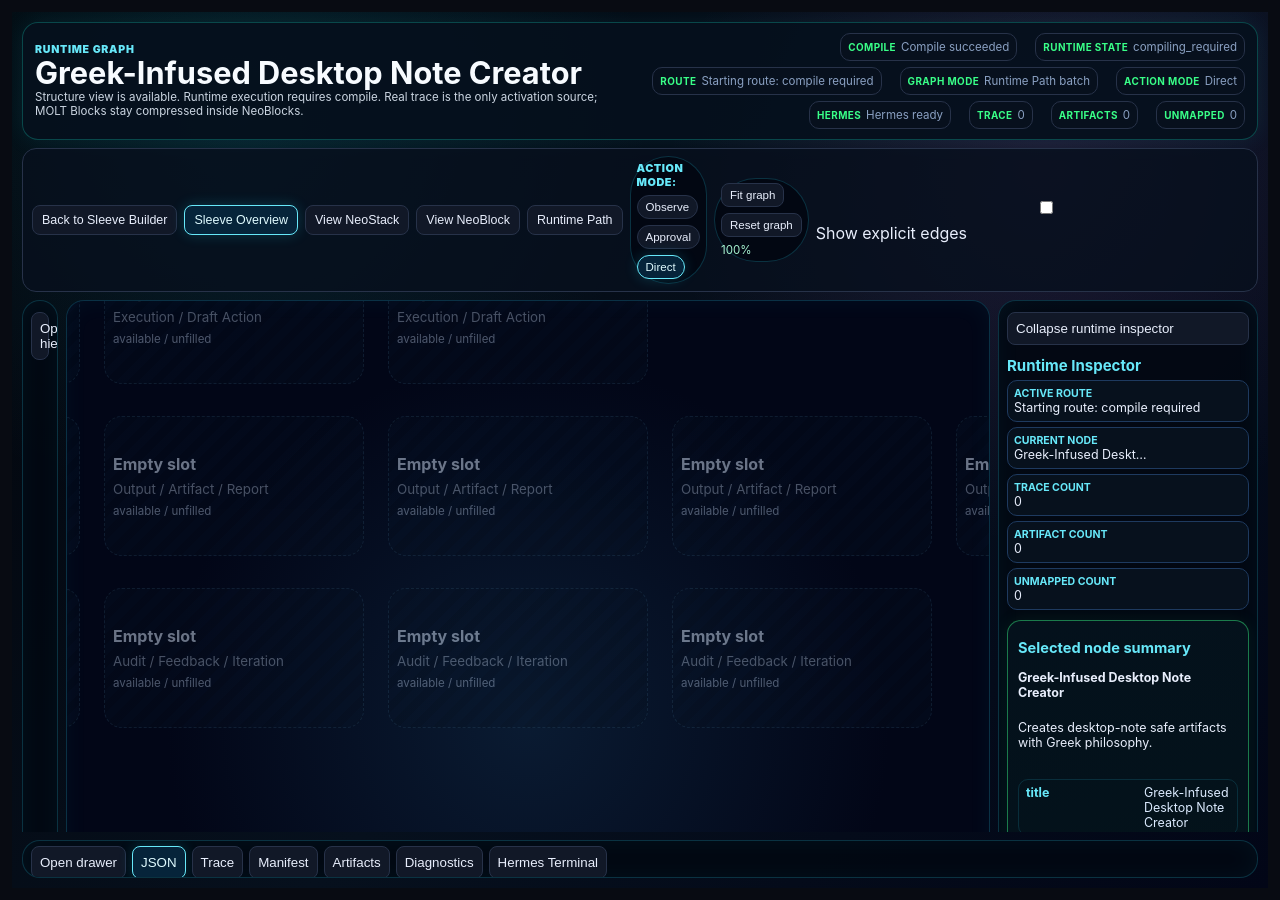
Scenario: RuntimeGeometryObserver › shows selected native action mode help in the Hermes Terminal drawer
This screenshot has width=1280, height=900.
Click the button "Hermes Terminal" at (548, 862), box [489,846,607,879]
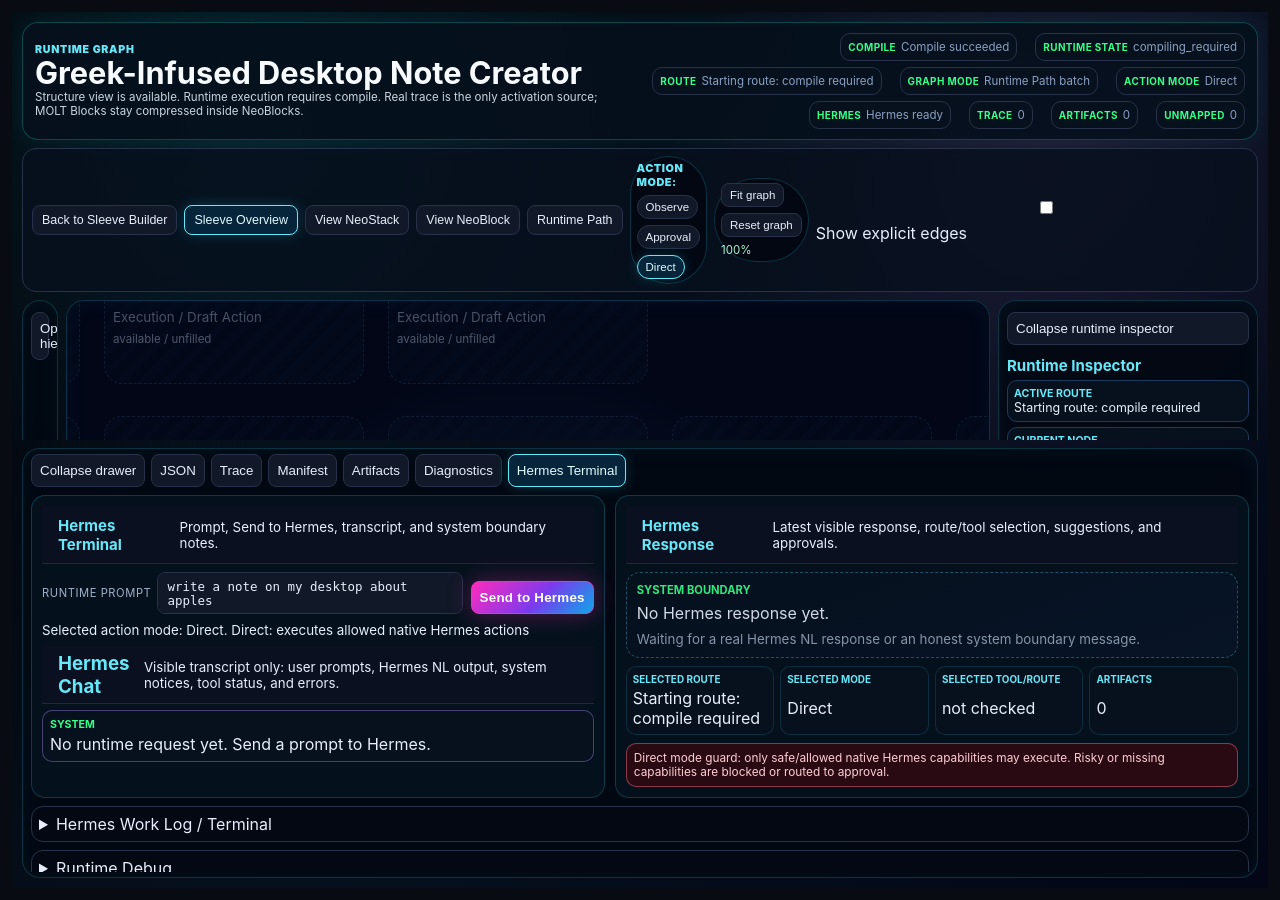
Expected: the text "Selected action mode: Direct" is shown, [42,622,594,638]
Expected: the text "Direct: executes allowed native Hermes actions" is shown, [231,622,529,638]
